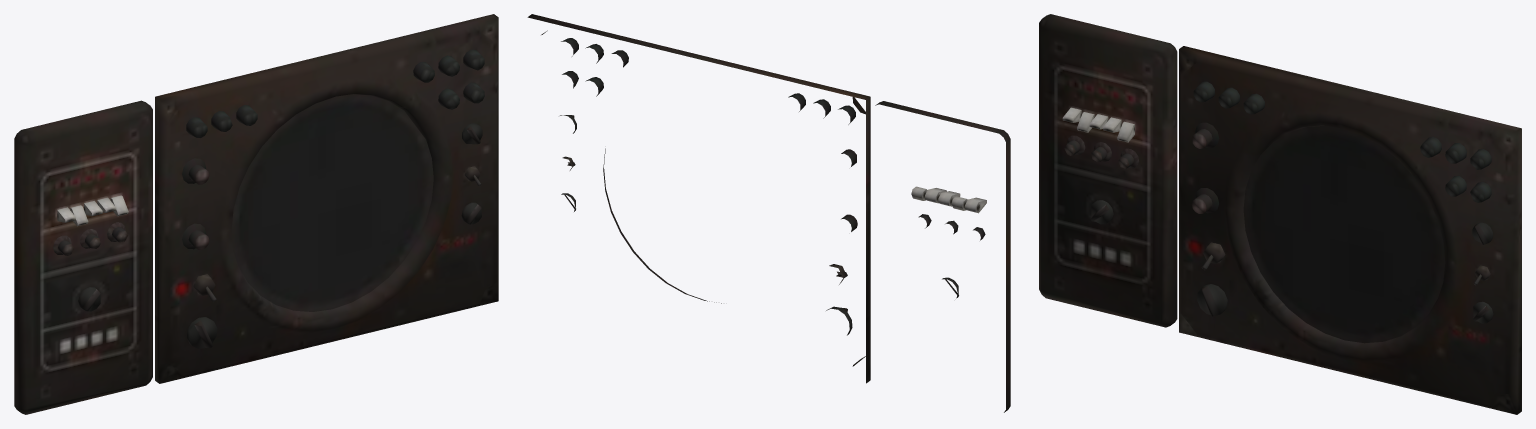
Rendered from control_panel_radar_b.glb.
3 renders of one model, left to right at view 1: azimuth 30°, elevation 25°; view 2: azimuth 150°, elevation 25°; view 3: azimuth 330°, elevation 25°, orthographic.
Parts seen in each view (by area): view 1: control_panel_radar_B; view 2: control_panel_radar_B; view 3: control_panel_radar_B.
Part boxes in pixels (box(x1,y1,x2,y2)): control_panel_radar_B: box(14, 14, 498, 414); control_panel_radar_B: box(527, 14, 1010, 412); control_panel_radar_B: box(1039, 14, 1521, 414).
Bounding box in the file's own units: 0.8837 × 0.5 × 0.065.
Materials: 1 (1 with a texture image).
